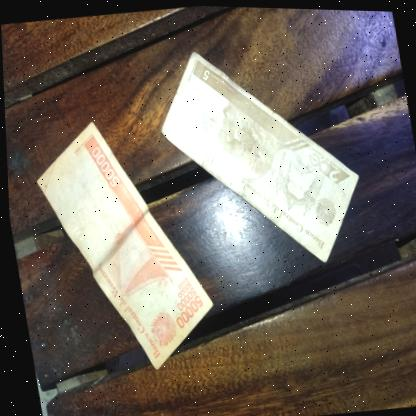vef_back: (145, 30, 370, 278)
